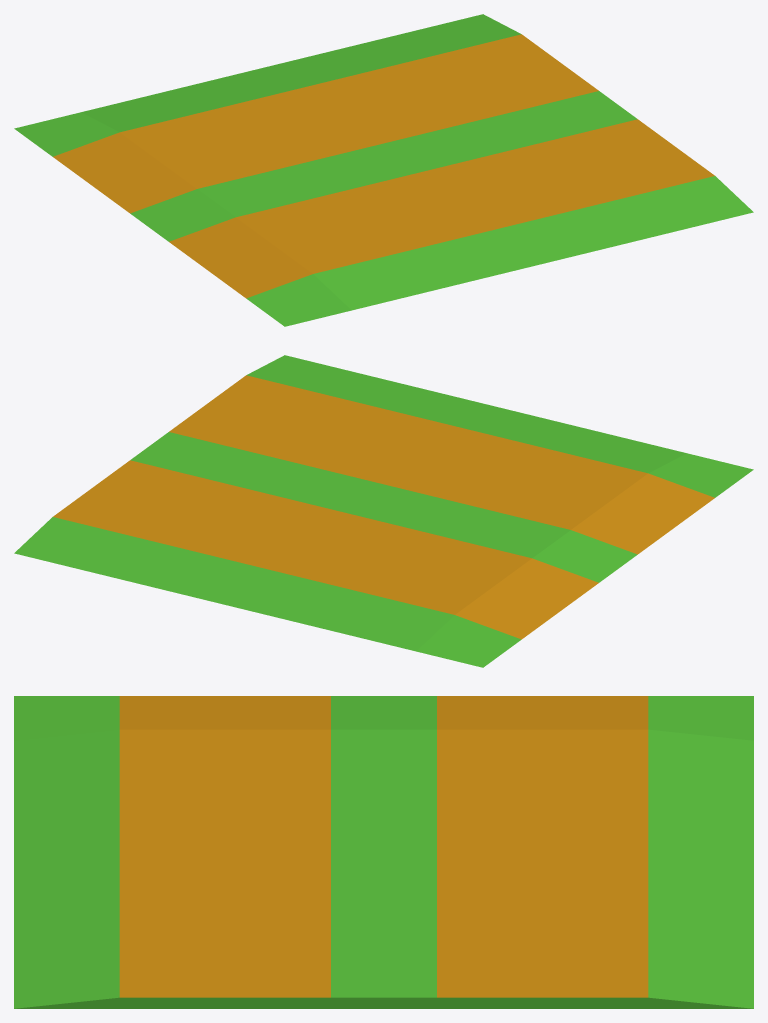
File: Road Start.fbx
3 renders of one model, top to bottom at view 1: azimuth 30°, elevation 25°; view 2: azimuth 150°, elevation 25°; view 3: azimuth 270°, elevation 25°, orthographic. The views are drawn at different scales.
Parts seen in each view (by area): view 1: Road Start; view 2: Road Start; view 3: Road Start.
Boxes of the visible parts, x1=… form: Road Start: x1=14, y1=14, x2=753, y2=326; Road Start: x1=14, y1=355, x2=753, y2=667; Road Start: x1=14, y1=696, x2=753, y2=1008.
Size of the model in its own units: 1200 by 20 by 1200.
